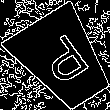P_SE: (31, 29, 95, 91)
